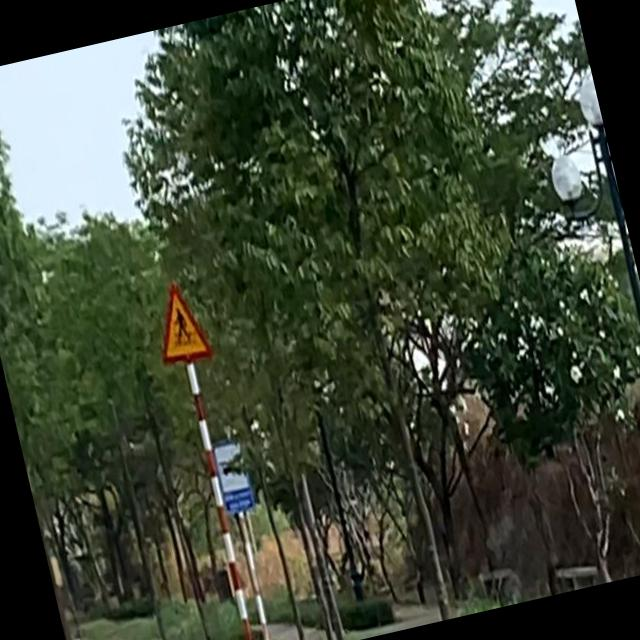W-224: (150, 279, 211, 366)
